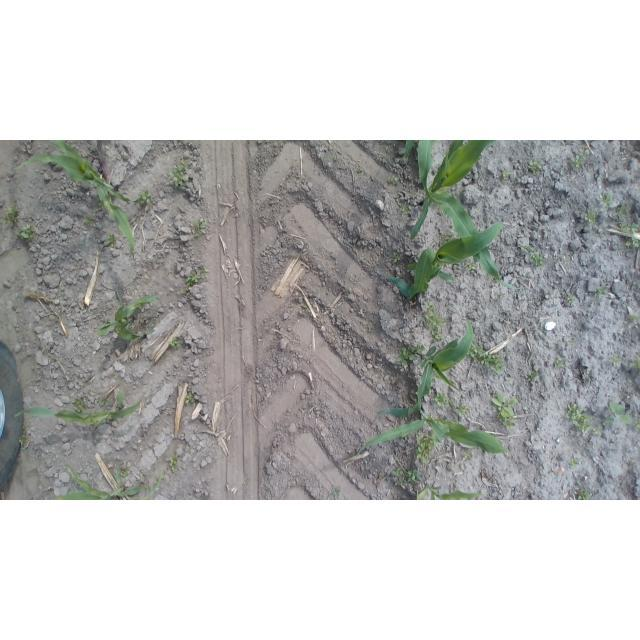Maize: (407, 140, 522, 294), (14, 141, 145, 260), (372, 315, 479, 426), (377, 219, 507, 300), (353, 407, 514, 465), (11, 385, 150, 432), (46, 461, 157, 499), (93, 290, 161, 342), (412, 476, 488, 500), (401, 140, 420, 161)
Weeds: (467, 342, 506, 374), (421, 301, 446, 344), (490, 392, 518, 429), (565, 402, 591, 435), (182, 264, 209, 294), (415, 431, 438, 465), (395, 342, 425, 367), (390, 467, 422, 488), (607, 401, 632, 427), (521, 244, 546, 269), (169, 161, 192, 187), (567, 147, 592, 169), (14, 221, 38, 243), (1, 205, 23, 228), (190, 219, 211, 239), (135, 189, 154, 209), (431, 391, 450, 411), (70, 396, 88, 413), (438, 231, 457, 247), (454, 402, 471, 419), (103, 233, 118, 252), (167, 335, 185, 350), (554, 356, 570, 372), (614, 205, 631, 220), (561, 290, 576, 307), (82, 215, 98, 230), (168, 454, 180, 474), (585, 210, 600, 226), (528, 159, 545, 173), (618, 221, 639, 232), (609, 354, 624, 369), (625, 236, 640, 250), (461, 448, 476, 462), (21, 423, 30, 446), (325, 489, 343, 500), (595, 286, 609, 300), (526, 369, 539, 384), (626, 313, 639, 328), (575, 486, 590, 499), (143, 483, 158, 496), (98, 197, 111, 211), (464, 260, 477, 273), (569, 456, 582, 469), (600, 194, 613, 207), (391, 251, 402, 266), (398, 201, 409, 216), (387, 175, 400, 187), (184, 391, 196, 403), (117, 468, 130, 478), (365, 322, 375, 335), (629, 358, 638, 372), (592, 427, 603, 438), (502, 168, 512, 180), (158, 471, 167, 483), (565, 338, 575, 347), (354, 166, 362, 175), (331, 153, 339, 161), (513, 177, 520, 185)
